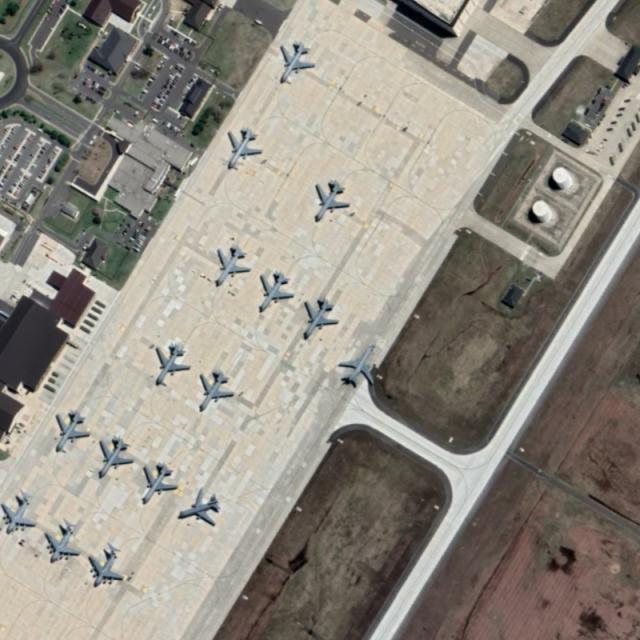fighter jet: (147, 339, 192, 393), (312, 171, 354, 225), (208, 242, 252, 292), (39, 518, 83, 568), (84, 540, 127, 589), (275, 39, 316, 87), (196, 366, 233, 418), (226, 122, 264, 172), (302, 290, 338, 340), (7, 484, 37, 544), (95, 432, 130, 480), (51, 402, 83, 454), (256, 267, 291, 313), (142, 460, 176, 506), (186, 492, 223, 532), (342, 348, 376, 391)
